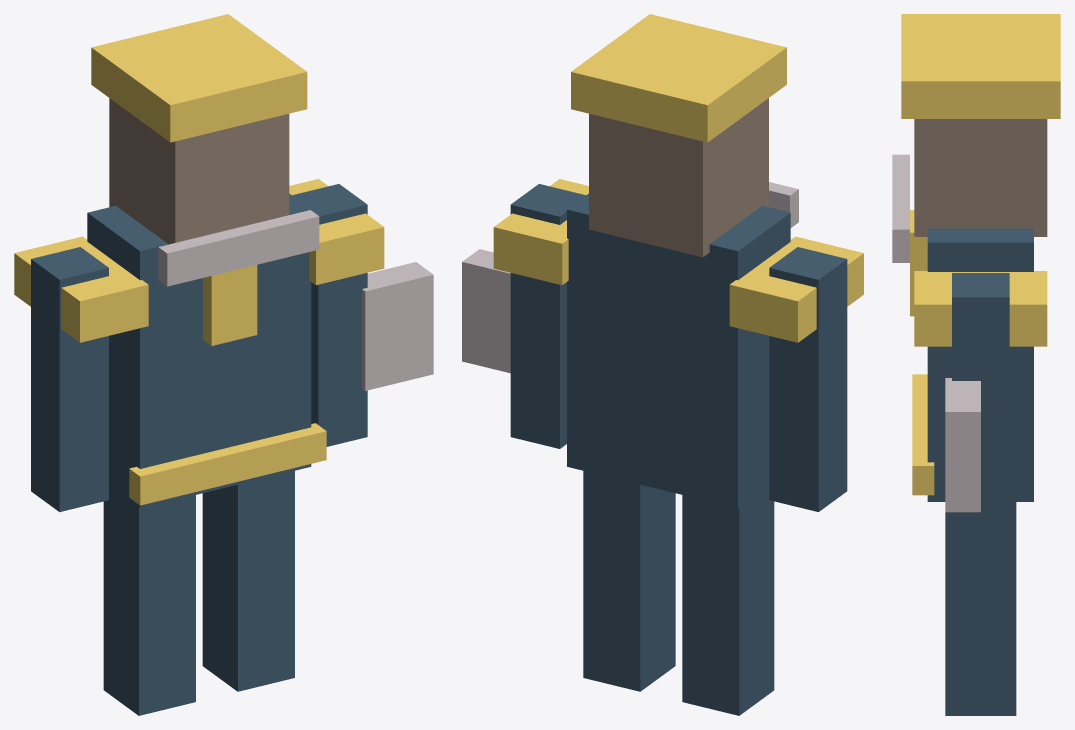
File: 19_pax_deepwell_custodian_of_ration.glb
The picture shows the model from 3 angles, left to right: view 1: azimuth 30°, elevation 25°; view 2: azimuth 150°, elevation 25°; view 3: azimuth 270°, elevation 25°; orthographic projection.
Parts seen in each view (by area): view 1: Pax Deepwell, Custodian of Ration; view 2: Pax Deepwell, Custodian of Ration; view 3: Pax Deepwell, Custodian of Ration.
Part boxes in pixels (<box>): Pax Deepwell, Custodian of Ration: <box>14,14,433,715</box>; Pax Deepwell, Custodian of Ration: <box>462,14,863,715</box>; Pax Deepwell, Custodian of Ration: <box>892,14,1060,715</box>.
Size of the model in its own units: 1.04 by 1.67 by 0.4035.
